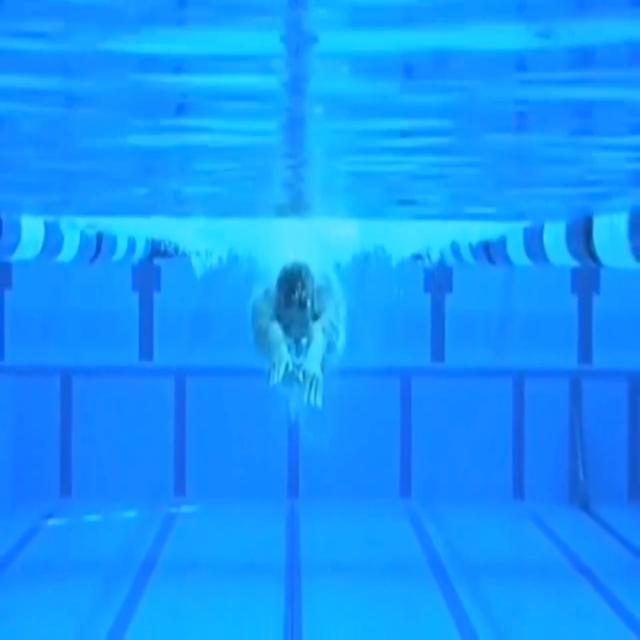Swimming: (249, 262, 347, 410)
